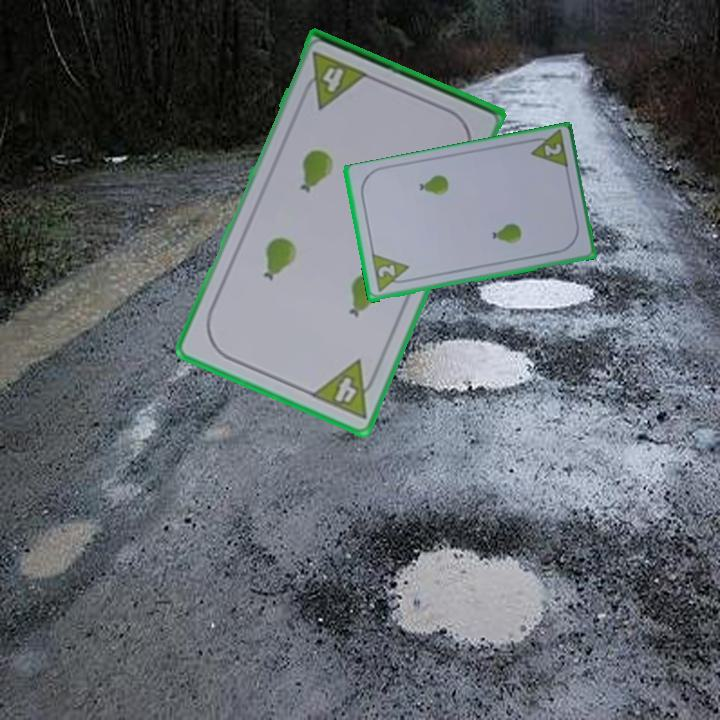2p: (524, 128, 571, 172), (374, 261, 398, 281)
4p: (307, 356, 383, 422), (297, 49, 371, 112)
